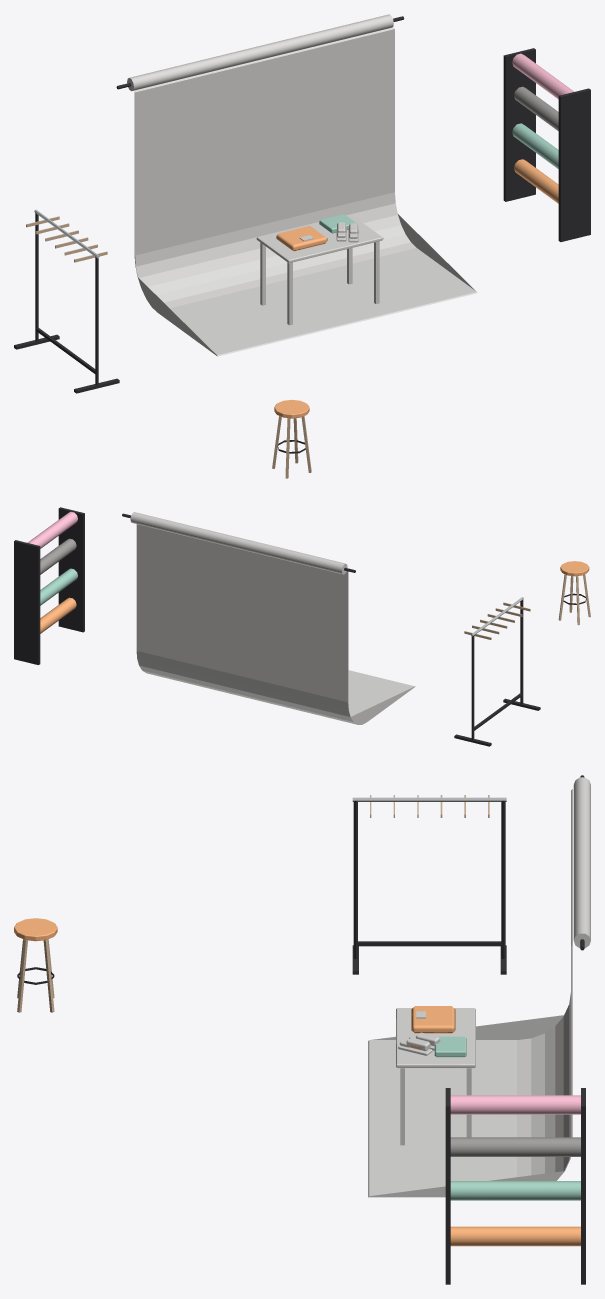
Rendered from einrichtung_fotostudio_buehne.glb.
3 renders of one model, top to bottom at view 1: azimuth 30°, elevation 25°; view 2: azimuth 150°, elevation 25°; view 3: azimuth 270°, elevation 25°, orthographic. The views are drawn at different scales.
Parts seen in each view (by area): view 1: einrichtung_fotostudio_buehne; view 2: einrichtung_fotostudio_buehne; view 3: einrichtung_fotostudio_buehne.
Boxes of the visible parts, box(x1,y1,x2,y2) form: einrichtung_fotostudio_buehne: box(14, 14, 590, 478); einrichtung_fotostudio_buehne: box(14, 507, 590, 746); einrichtung_fotostudio_buehne: box(14, 775, 590, 1284).
Bounding box in the file's own units: 6.38 × 2.37 × 4.69.
